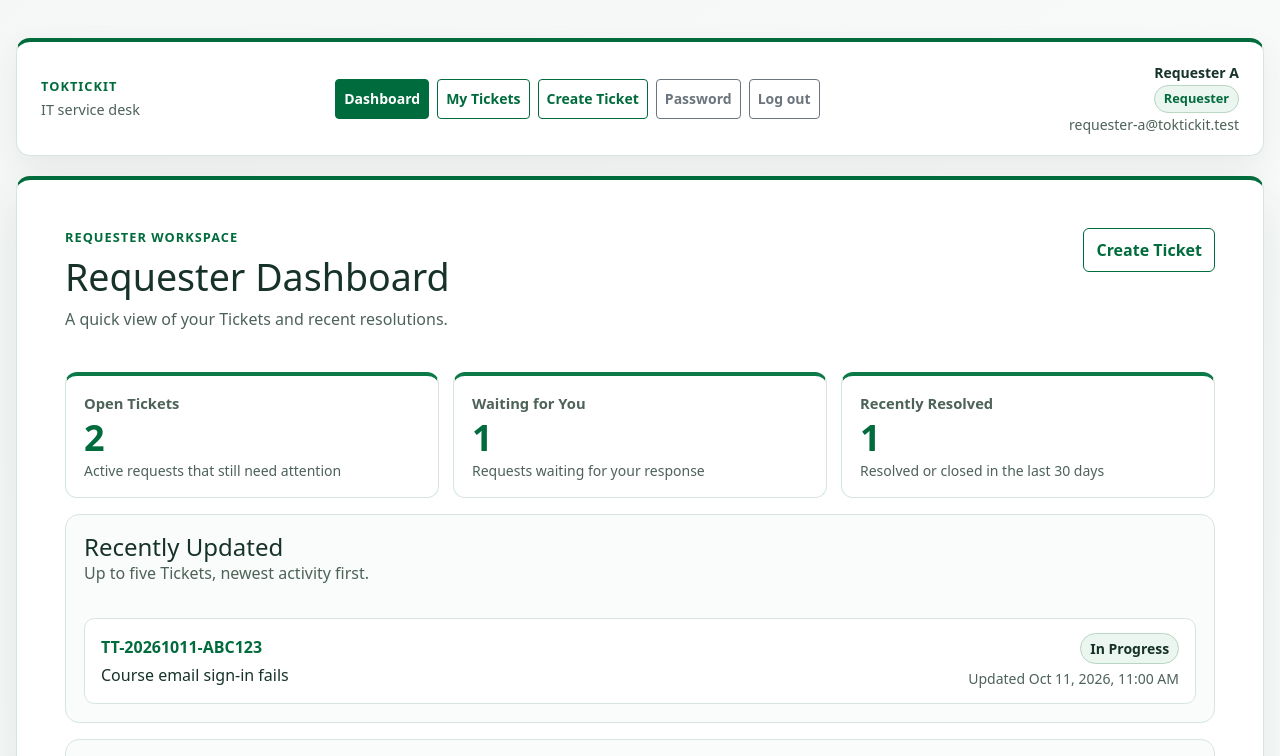
it: Lab 4 Requester Dashboard › preserves the active status group when an Open Tickets card opens My Tickets
Expected: the heading "Requester Dashboard" is shown, x1=65 y1=255 x2=450 y2=298
What coordinates should you click on to do the following:
click the button with aria-label "Open Tickets: 2"
I would click on:
 (132, 403)
Its box is x1=65 y1=372 x2=439 y2=498.
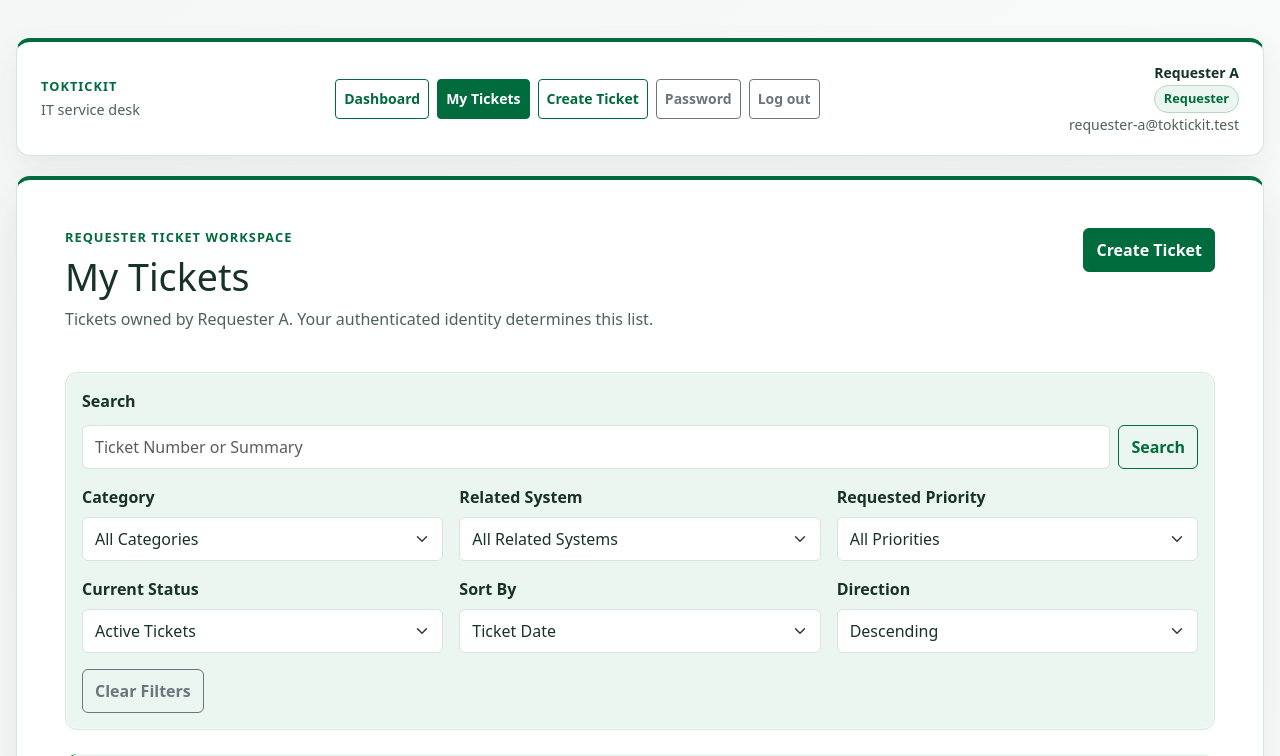
Expected: the heading "My Tickets" is shown, x1=65 y1=251 x2=250 y2=302
Expected: the dropdown labelled "Current Status" shows "Active Tickets", x1=82 y1=609 x2=443 y2=653
